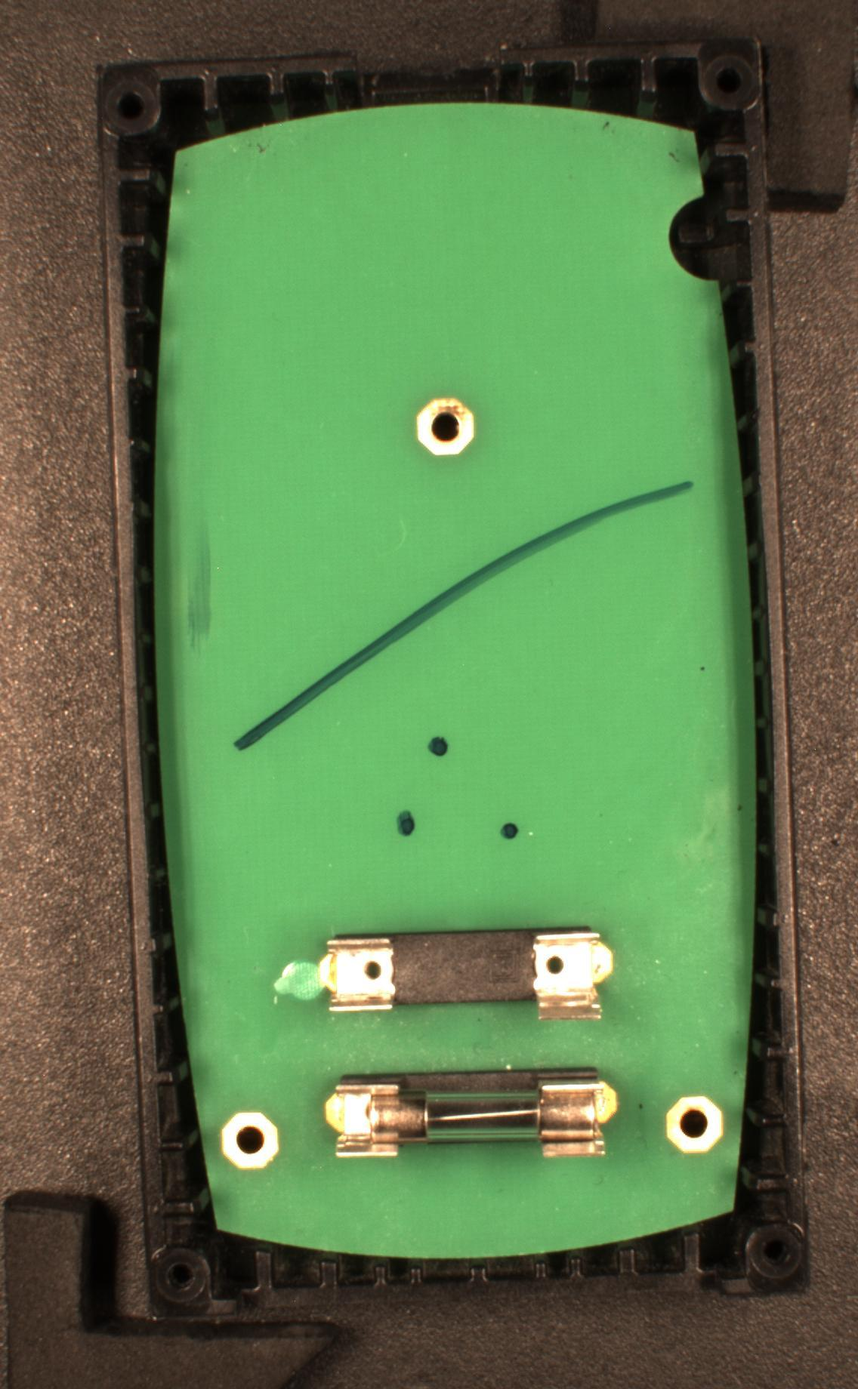Linijsko Ostecene: (230, 476, 699, 755)
Nepostojanje osiguraca: (322, 924, 616, 1024)
Tockasto Ostecenje: (395, 807, 418, 839), (427, 735, 452, 756), (498, 820, 521, 842)
